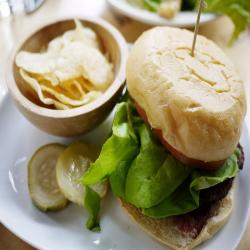burger: (117, 28, 238, 241)
fries: (11, 20, 120, 114)
